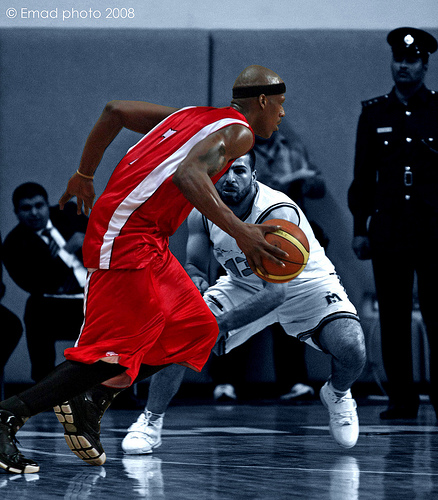basketball: (250, 219, 310, 284)
